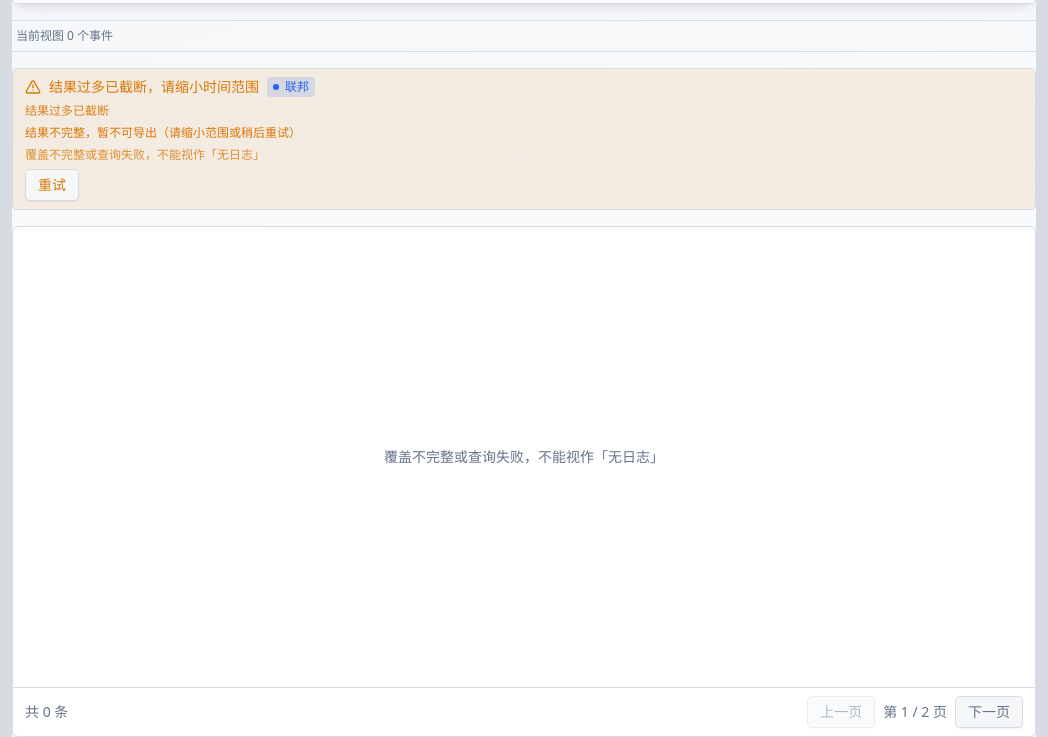
it: LogsPage × logs-federation（FR-482） › 预算截断的空页仍沿原游标续页，不前移窗口
(page scrolled)
Check: the text with test id "logs-empty-not-success" is shown, box 25,146 -> 265,163
Click the button "下一页": (989, 712) 955,696 -> 1023,728
(page scrolled)
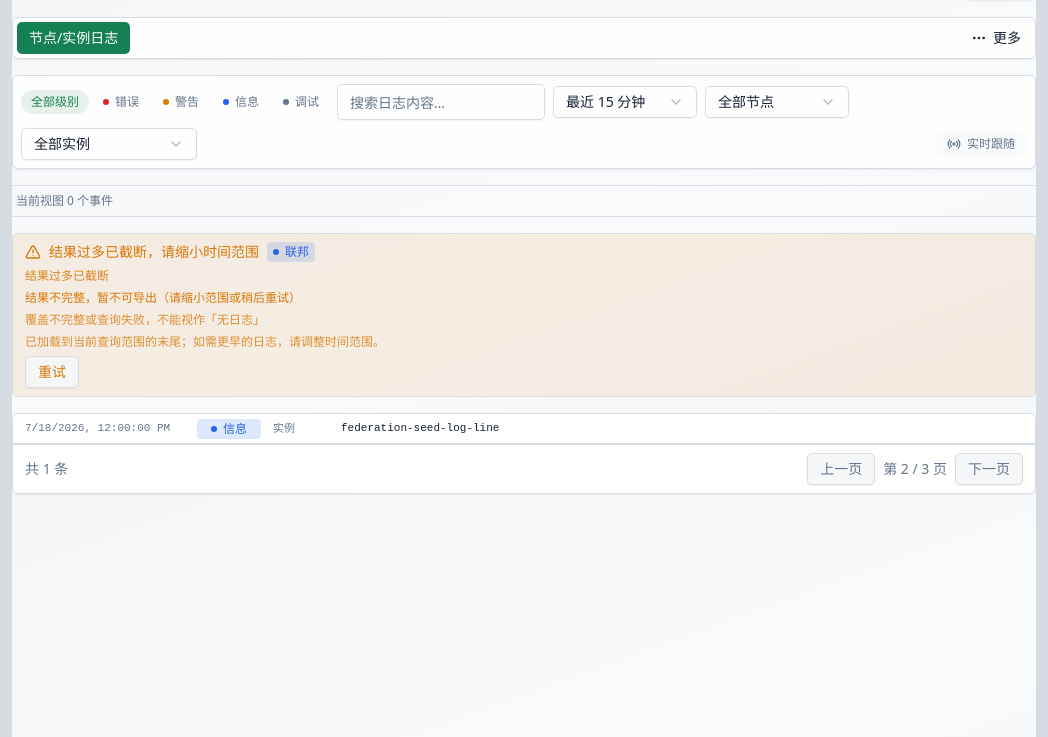
Check: the text "federation-seed-log-line" is shown, box 341,422 -> 499,434
